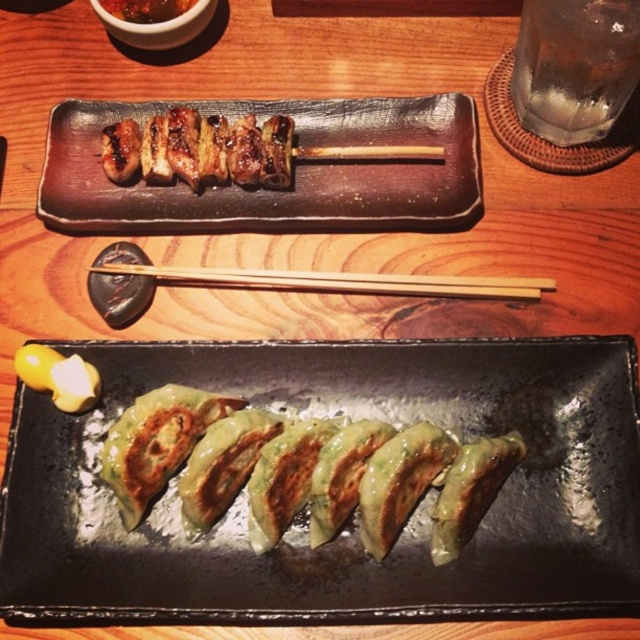Fish: (87, 379, 246, 527), (355, 420, 468, 556), (244, 415, 355, 552), (176, 407, 292, 525), (426, 441, 526, 559), (308, 427, 391, 548)
